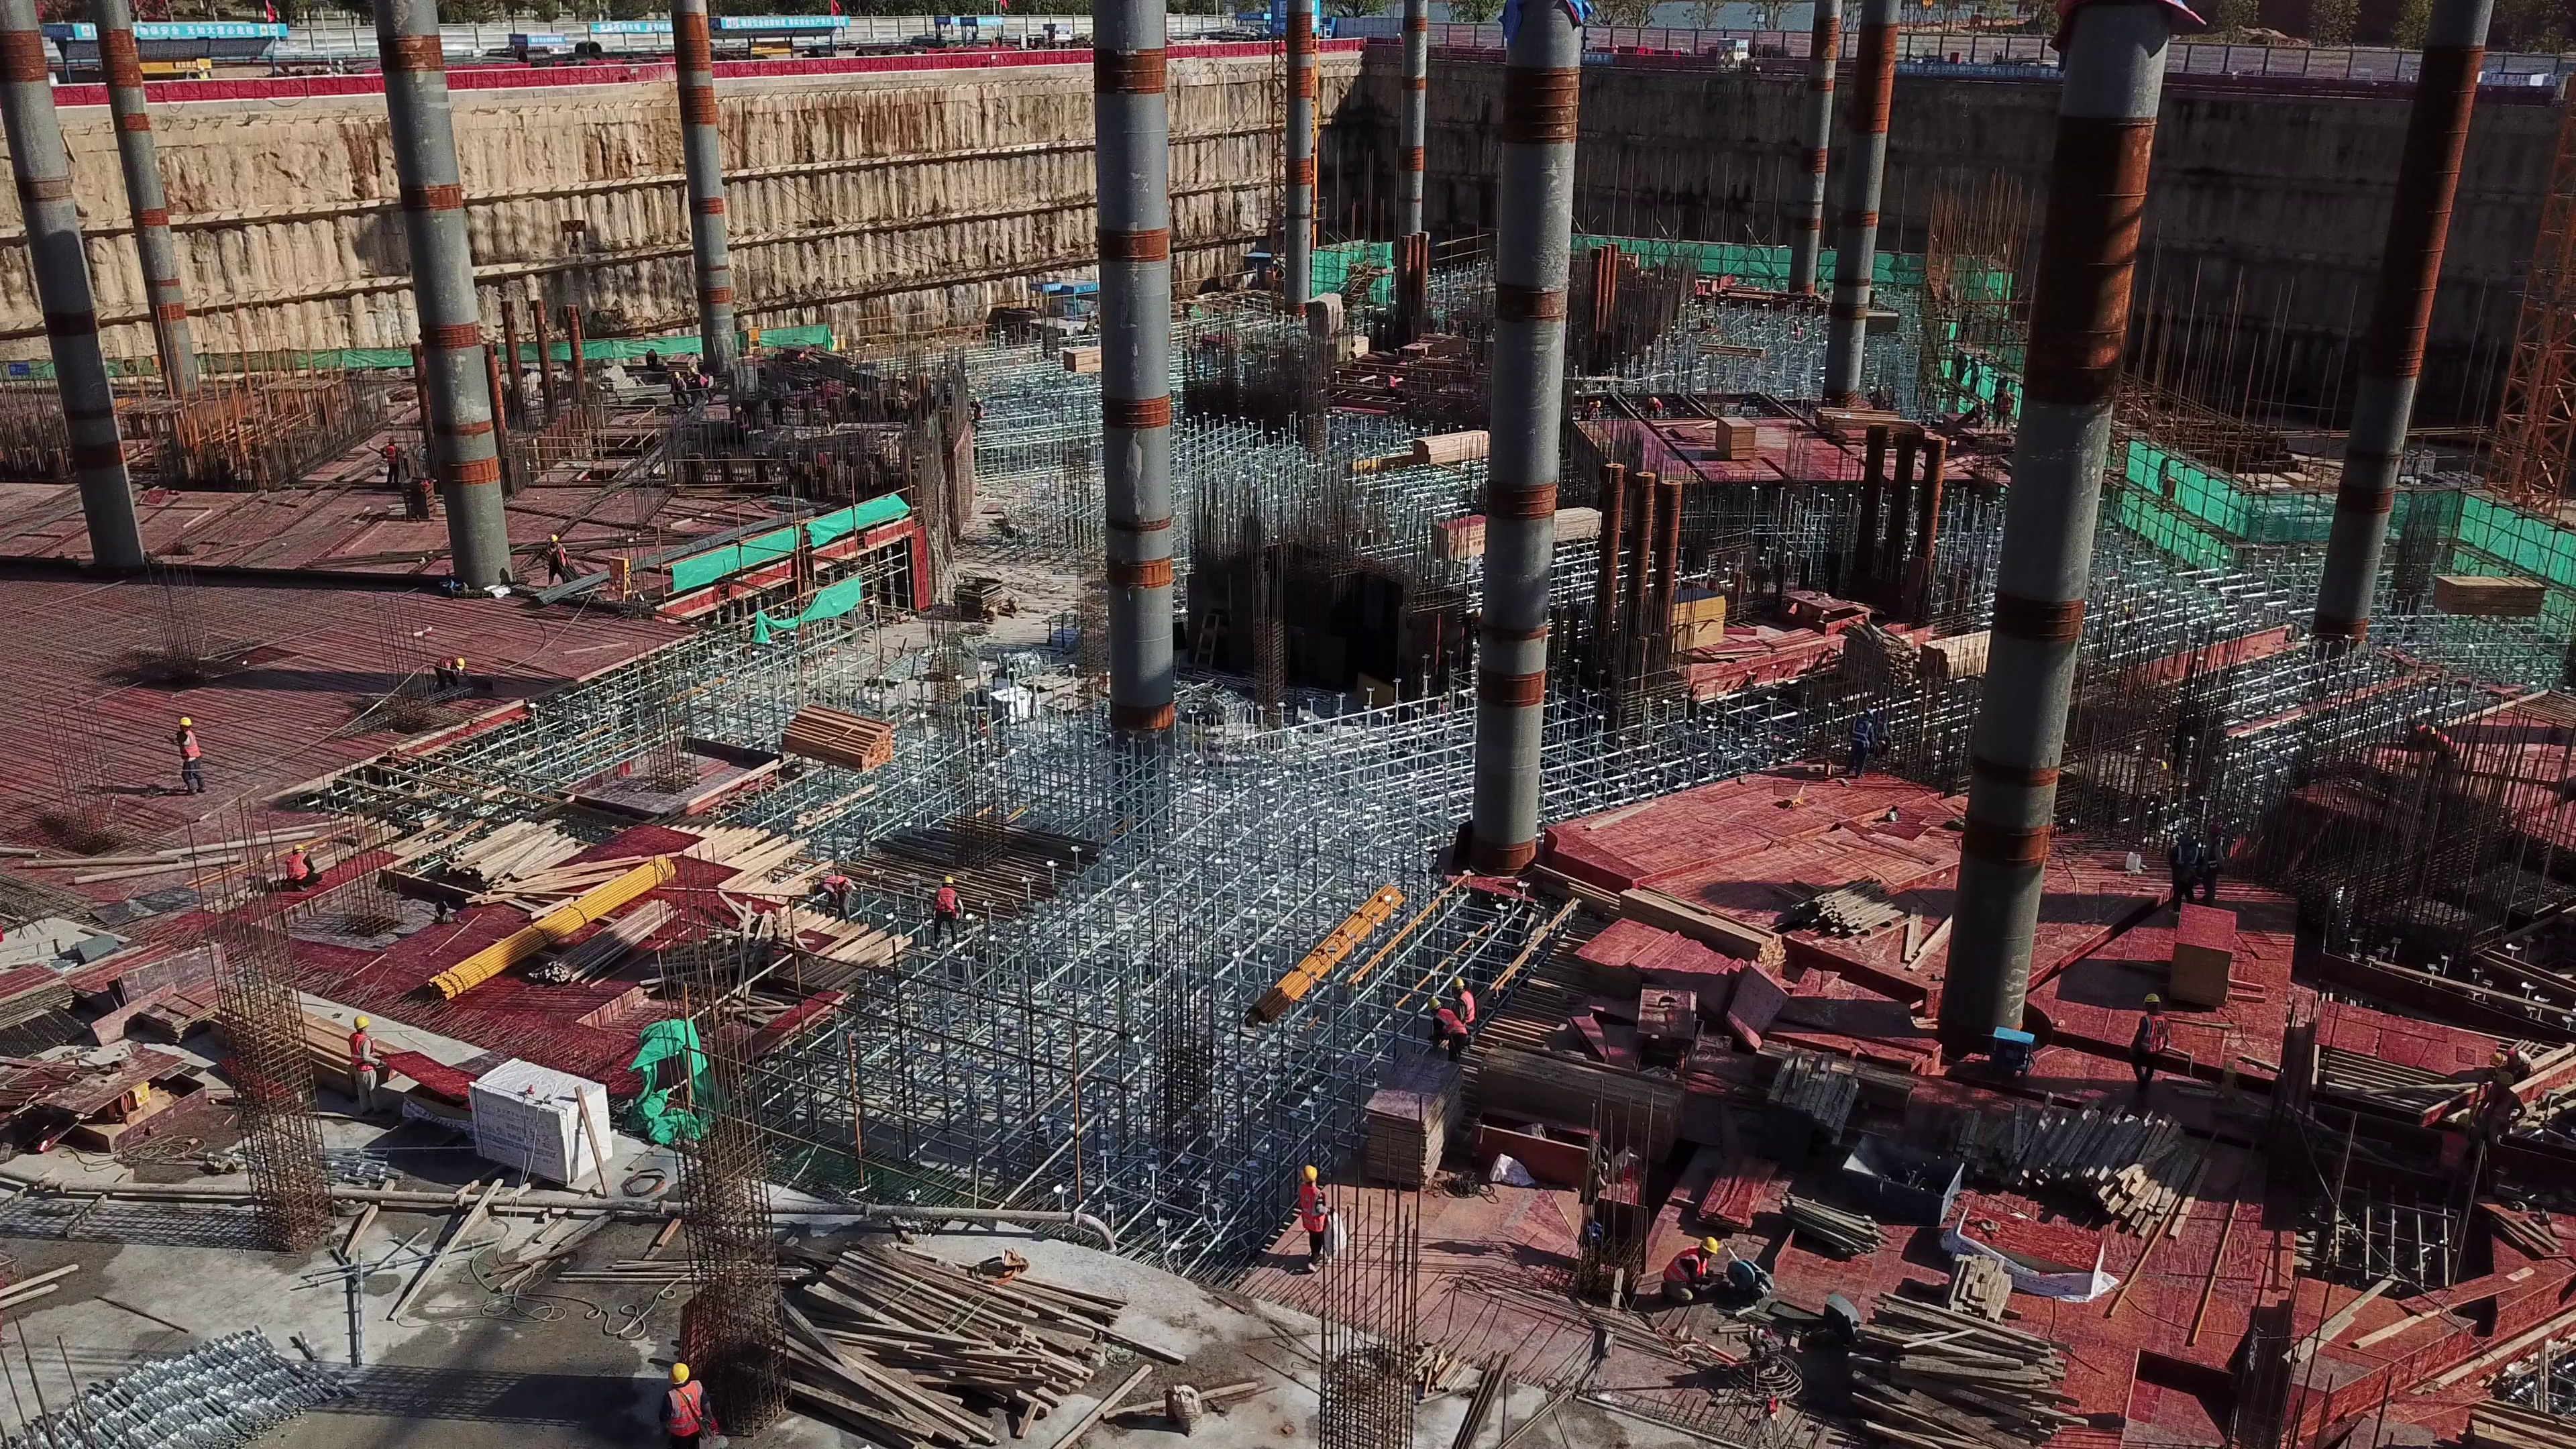board: (1481, 1045, 1680, 1154), (1598, 926, 1743, 1019), (1366, 1059, 1470, 1183), (111, 961, 236, 1036), (2171, 904, 2239, 1009), (1, 977, 80, 1028), (1434, 511, 1479, 571), (1713, 416, 1752, 455)
cutter: (1717, 1246, 1769, 1303)
ebox: (601, 553, 637, 602)
fence: (2162, 40, 2576, 118), (1381, 31, 1833, 77), (714, 43, 1104, 85), (24, 67, 399, 100), (1870, 33, 2070, 79), (451, 58, 686, 95), (1147, 34, 1369, 60)
helmet: (663, 1359, 694, 1385), (1699, 1234, 1718, 1257), (2141, 992, 2163, 1006), (353, 1014, 366, 1029), (1299, 1169, 1317, 1181), (178, 717, 192, 729), (452, 658, 462, 671)
person: (659, 1355, 714, 1449), (1293, 1168, 1340, 1271), (2129, 989, 2166, 1108), (1661, 1236, 1717, 1307), (339, 1015, 378, 1114), (166, 714, 205, 795), (1424, 1000, 1472, 1065), (804, 873, 856, 933), (927, 881, 965, 953), (2165, 833, 2197, 916), (2199, 828, 2227, 916), (1450, 981, 1481, 1046), (284, 848, 325, 894), (538, 537, 569, 585), (1847, 712, 1868, 781), (381, 436, 407, 488), (430, 658, 470, 692)
scaffold: (28, 1335, 333, 1449)
slogan: (121, 22, 284, 60)
vest: (668, 1384, 712, 1443), (1298, 1182, 1330, 1238), (1662, 1251, 1706, 1285), (2139, 1014, 2163, 1065), (345, 1035, 379, 1069), (1432, 1010, 1468, 1041), (928, 885, 961, 915), (816, 869, 851, 891), (178, 734, 205, 762), (281, 850, 309, 879), (1849, 721, 1869, 761)
wood: (761, 1254, 1100, 1440), (1817, 1274, 2075, 1449), (1950, 1103, 2200, 1230), (1799, 883, 1933, 979), (1758, 1062, 1860, 1161), (446, 825, 582, 896), (774, 698, 899, 771), (1907, 626, 1989, 687), (1406, 433, 1490, 478)
